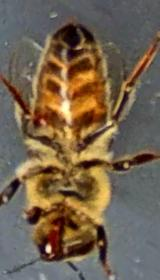varroa_mite: (27, 101, 55, 138)
